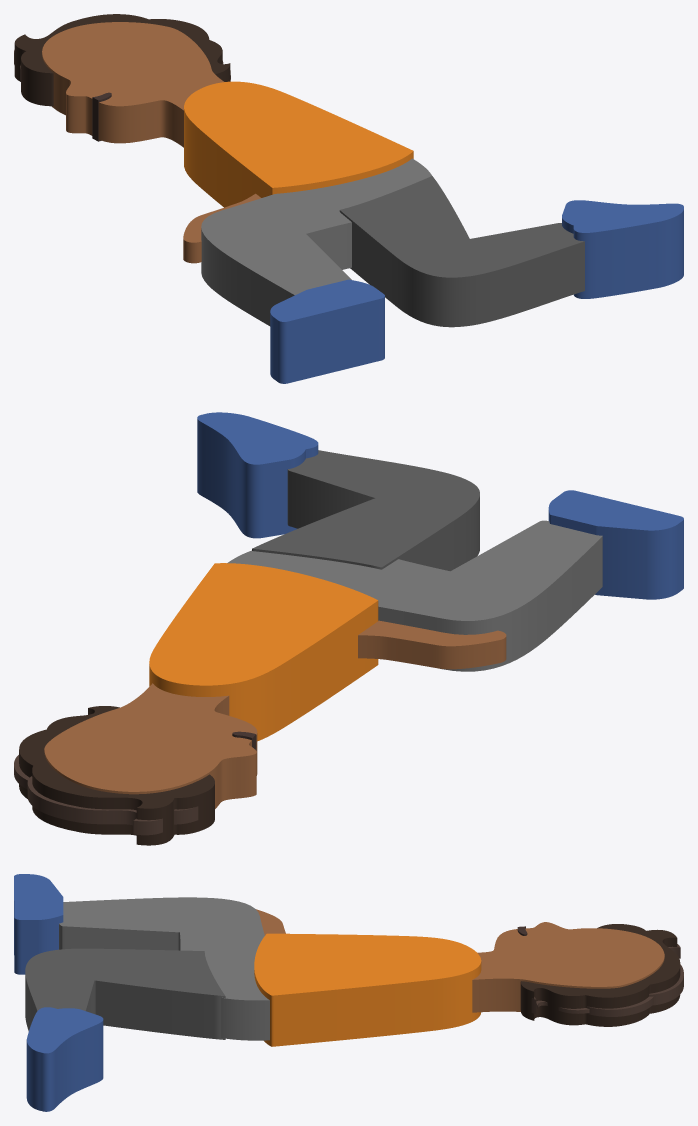
Rendered from emoji_u1f9ce_1f3fe.glb.
3 renders of one model, top to bottom at view 1: azimuth 30°, elevation 25°; view 2: azimuth 150°, elevation 25°; view 3: azimuth 270°, elevation 25°, orthographic. The views are drawn at different scales.
Parts seen in each view (by area): view 1: emoji_u1f9ce_1f3fe; view 2: emoji_u1f9ce_1f3fe; view 3: emoji_u1f9ce_1f3fe.
Boxes of the visible parts, box(x1,y1,x2,y2) form: emoji_u1f9ce_1f3fe: box(14, 14, 683, 383); emoji_u1f9ce_1f3fe: box(14, 412, 683, 845); emoji_u1f9ce_1f3fe: box(14, 874, 683, 1111).
Size of the model in its own units: 0.0213 by 0.0032 by 0.0332.
